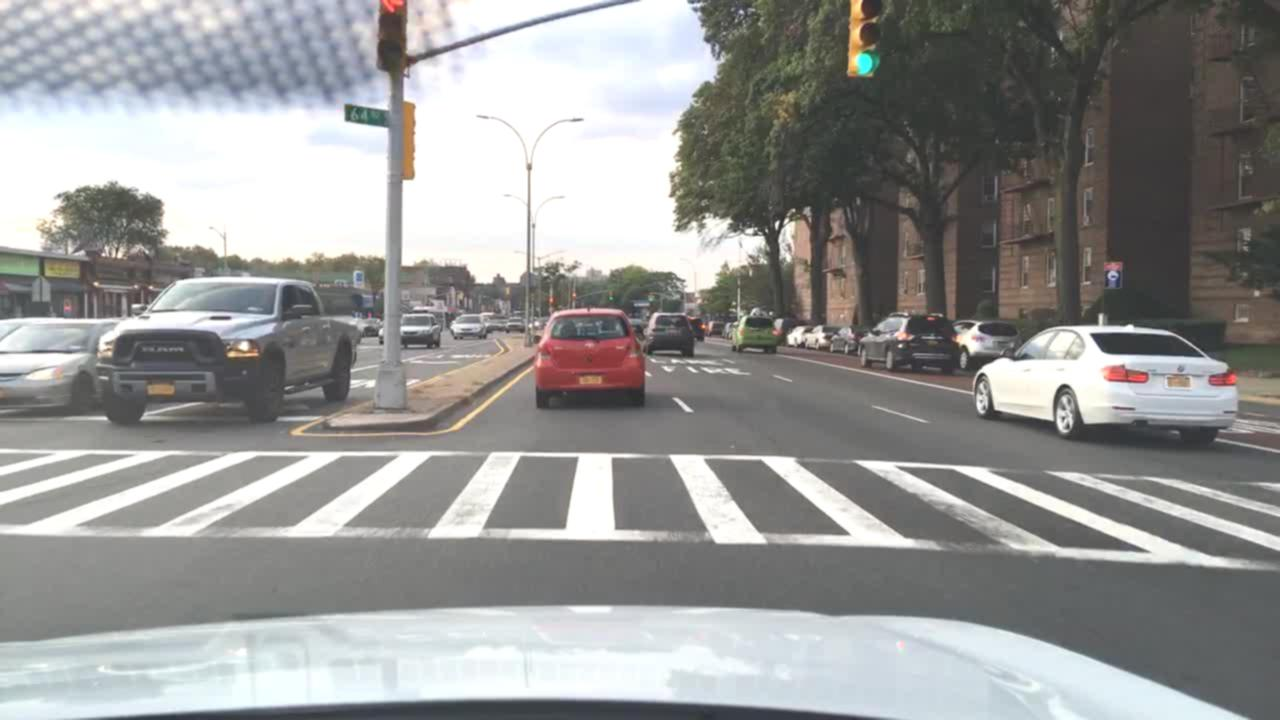ram: (141, 343, 183, 355)
